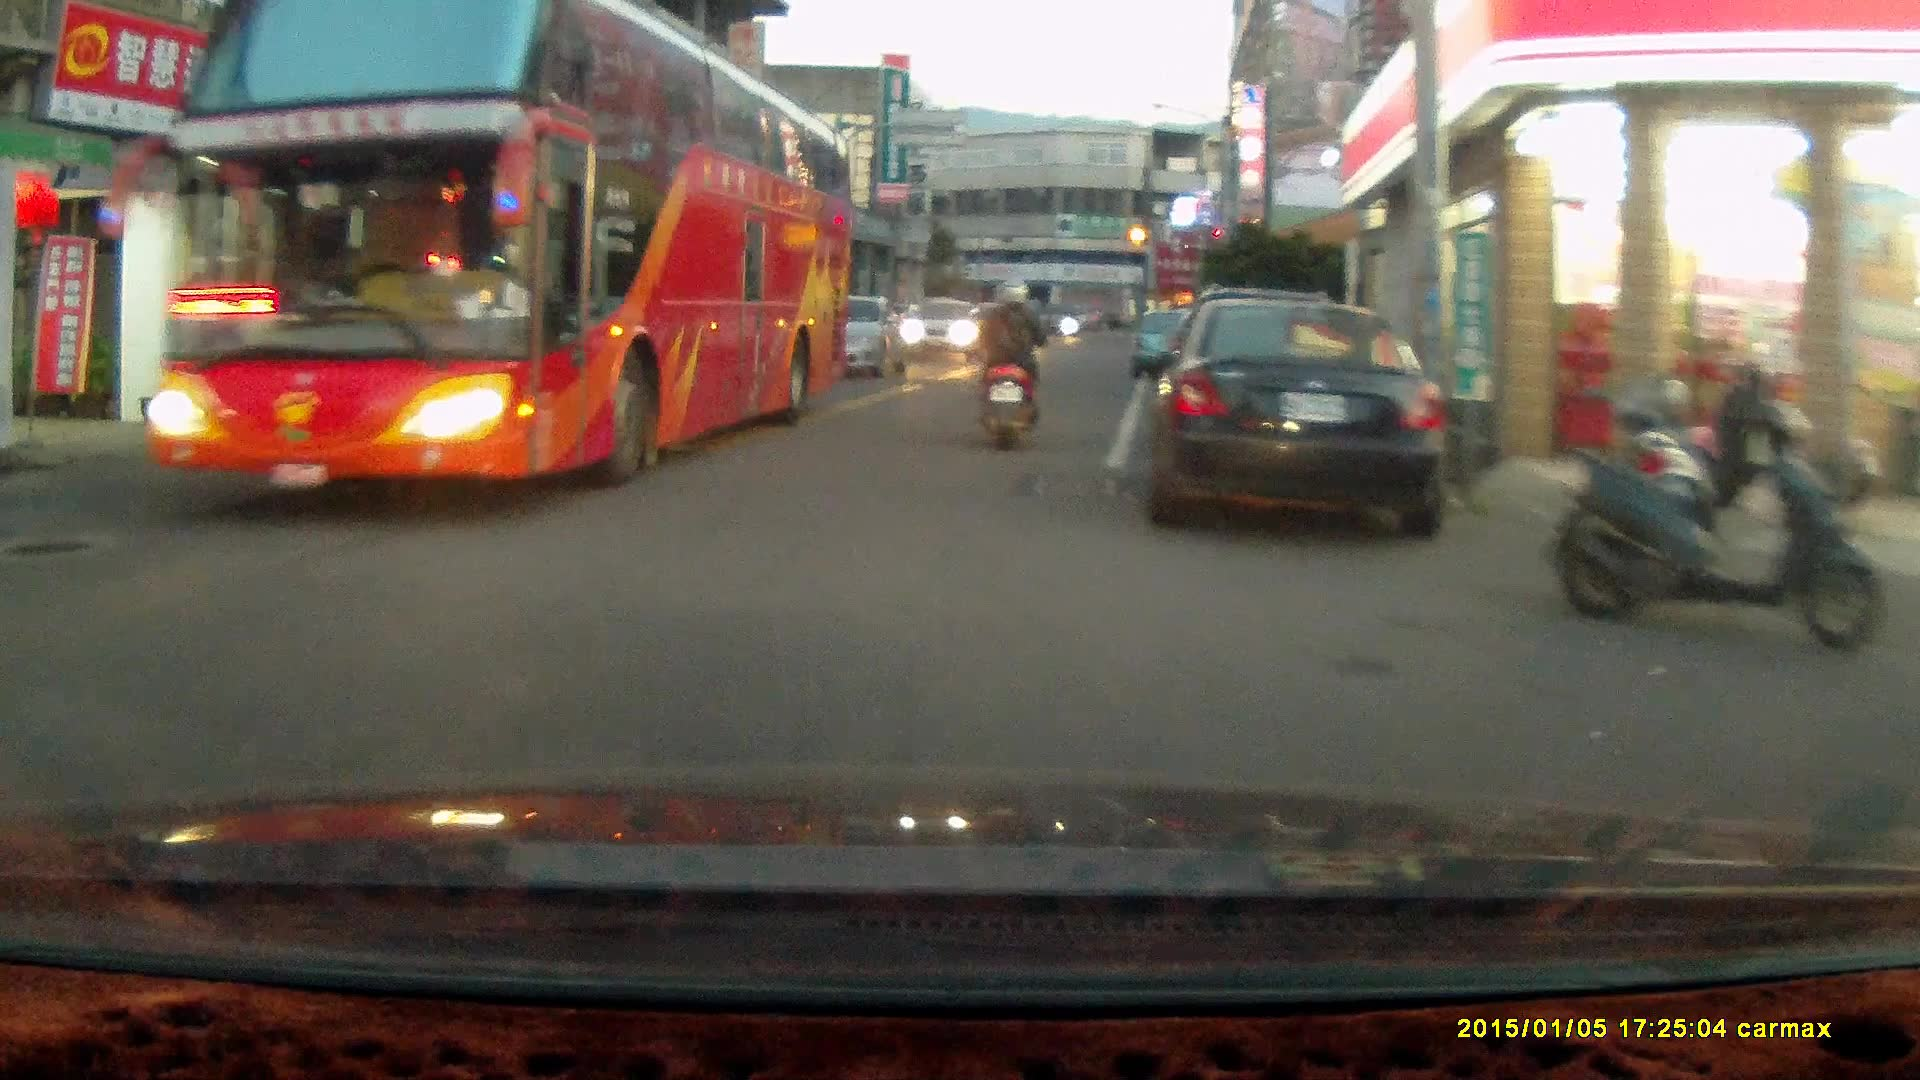rider: (971, 276, 1045, 453)
vehicle: (158, 4, 862, 505), (1124, 294, 1450, 543), (809, 294, 909, 380), (894, 296, 987, 364)
